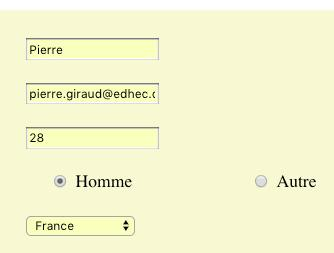field: (23, 125, 161, 151), (24, 37, 164, 61), (25, 82, 163, 106), (24, 215, 138, 236)
radio: (51, 173, 66, 189), (253, 172, 267, 189)
radio_with_label: (48, 170, 132, 191), (249, 170, 316, 191)
